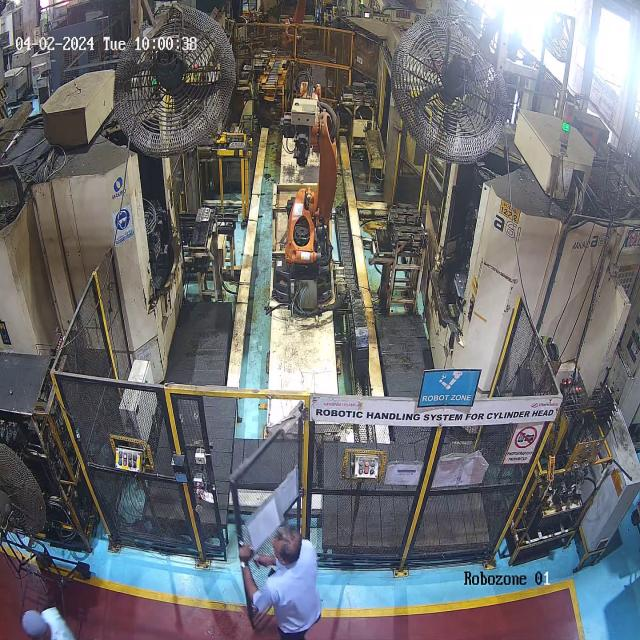person: (234, 523, 326, 640)
